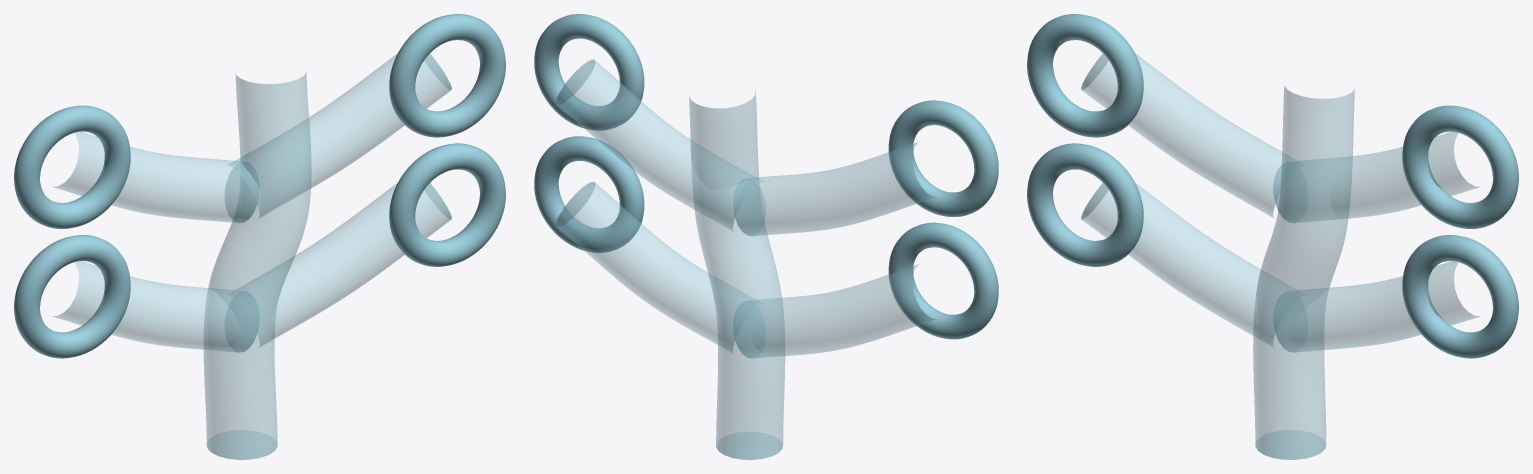
3 views of the same model, side by side, from view 1: azimuth 30°, elevation 25°; view 2: azimuth 150°, elevation 25°; view 3: azimuth 330°, elevation 25° (orthographic). The views are drawn at different scales.
Visible parts, largest first — view 1: branch-root, branch-2, branch-0, branch-3, branch-1, socket-0, socket-3, socket-1, socket-2; view 2: branch-root, branch-2, branch-0, branch-3, branch-1, socket-1, socket-0, socket-3, socket-2; view 3: branch-root, branch-3, branch-1, branch-2, branch-0, socket-1, socket-2, socket-0, socket-3.
Boxes of the visible parts, box(x1,y1,x2,y2) form: branch-root: box(204, 72, 311, 459); branch-2: box(227, 53, 451, 217); branch-0: box(236, 183, 451, 347); branch-3: box(53, 132, 259, 223); branch-1: box(53, 261, 258, 352); socket-0: box(389, 143, 505, 266); socket-3: box(14, 105, 130, 228); socket-1: box(14, 235, 130, 358); socket-2: box(389, 14, 505, 137); branch-root: box(689, 93, 784, 459); branch-2: box(556, 59, 762, 231); branch-0: box(556, 182, 755, 353); branch-3: box(733, 142, 935, 236); branch-1: box(733, 264, 936, 358); socket-1: box(888, 222, 998, 339); socket-0: box(534, 136, 644, 252); socket-3: box(888, 100, 998, 216); socket-2: box(534, 14, 644, 130); branch-root: box(1253, 86, 1354, 459); branch-3: box(1081, 53, 1296, 218); branch-1: box(1081, 183, 1296, 347); branch-2: box(1273, 132, 1479, 222); branch-0: box(1274, 261, 1479, 352); socket-1: box(1027, 143, 1143, 266); socket-2: box(1402, 105, 1518, 228); socket-0: box(1402, 235, 1518, 358); socket-3: box(1027, 14, 1143, 137).
Size of the model in its own units: 2.37 by 1.84 by 0.359.
